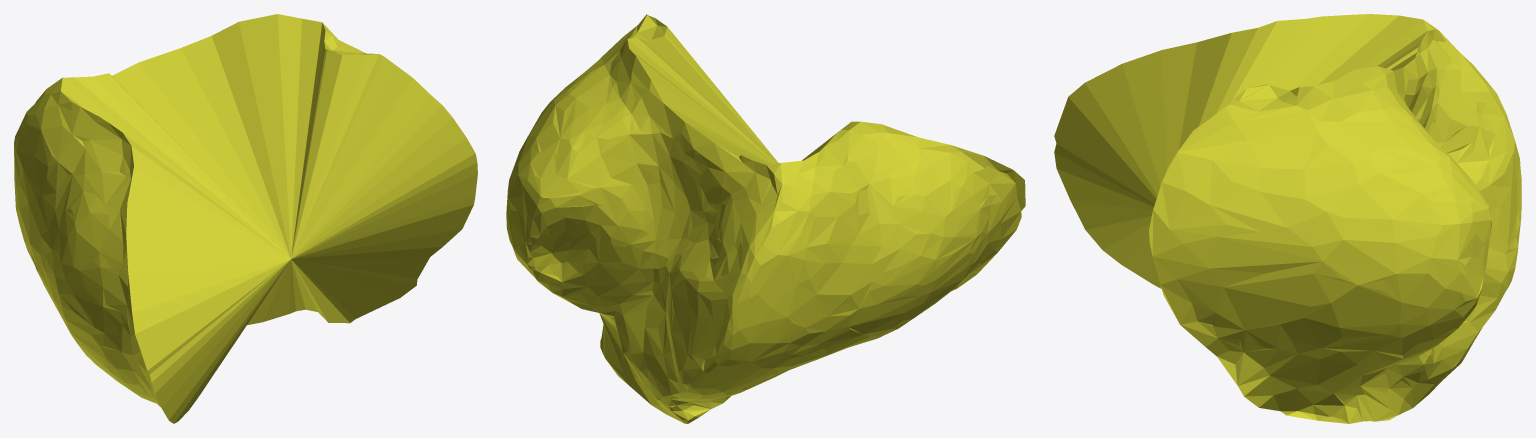
The model's file is Crown_15__Demo_Virtual_Patient.obj.
The picture shows the model from 3 angles, left to right: view 1: azimuth 30°, elevation 25°; view 2: azimuth 150°, elevation 25°; view 3: azimuth 270°, elevation 25°; orthographic projection. The views are drawn at different scales.
Bounding box in the file's own units: 9.7 × 7.91 × 9.28.
